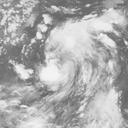cyclone: (39, 35, 93, 86)
